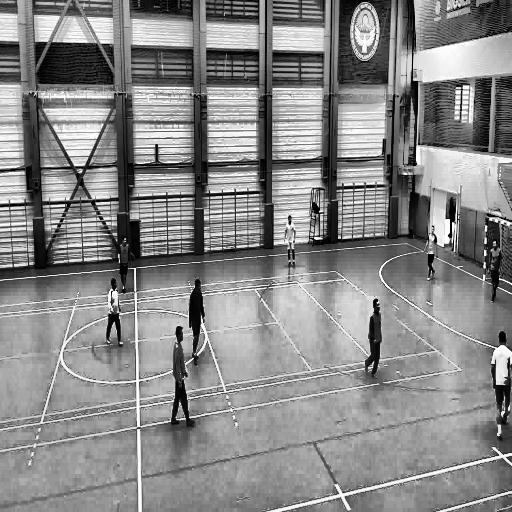ball: (499, 410, 509, 426)
player: (171, 326, 197, 430), (489, 329, 512, 441), (189, 278, 206, 367), (365, 299, 382, 382), (106, 277, 123, 350), (488, 240, 502, 304), (117, 236, 132, 295), (424, 225, 438, 281), (284, 215, 297, 268)
